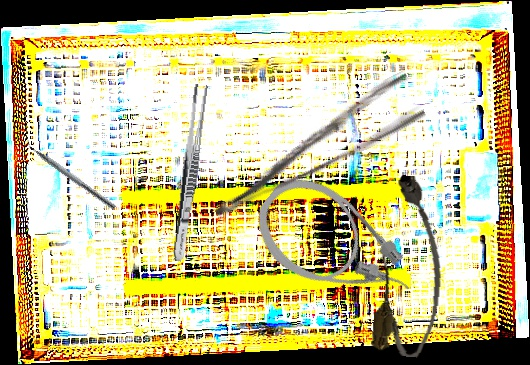Cannula: (240, 160, 429, 336), (370, 173, 452, 360)
Chopper: (20, 134, 121, 211)
Dressing Forceps: (195, 69, 429, 222), (170, 83, 209, 263)
